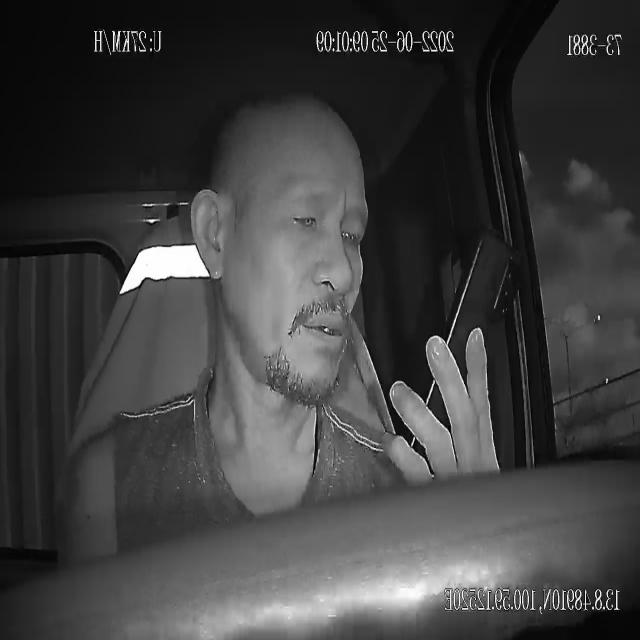phone: (403, 222, 524, 468)
